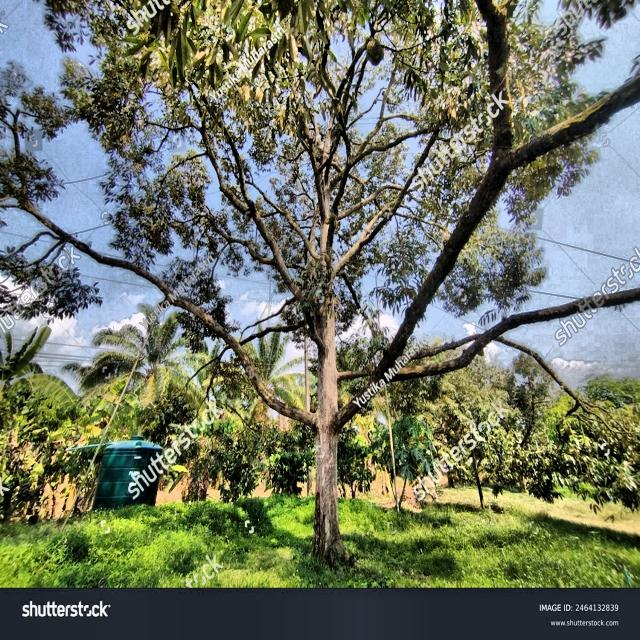arvore: (291, 143, 374, 587)
